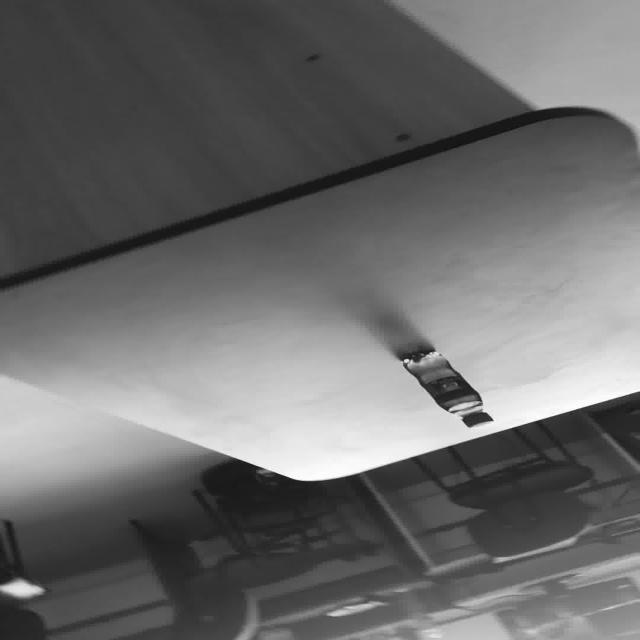guarana: (399, 349, 493, 428)
